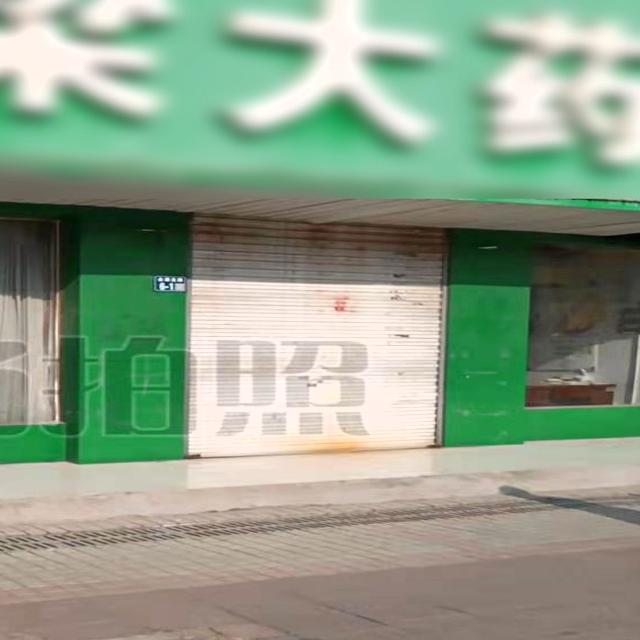good: (0, 629, 407, 640)
